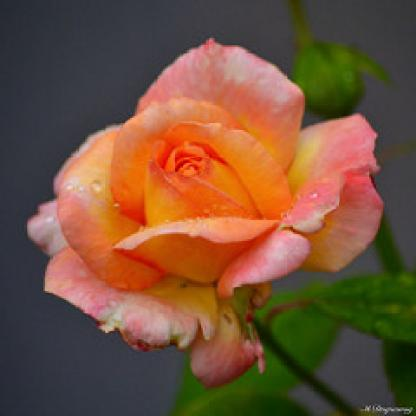Rose-Mawar: (24, 29, 384, 382)
